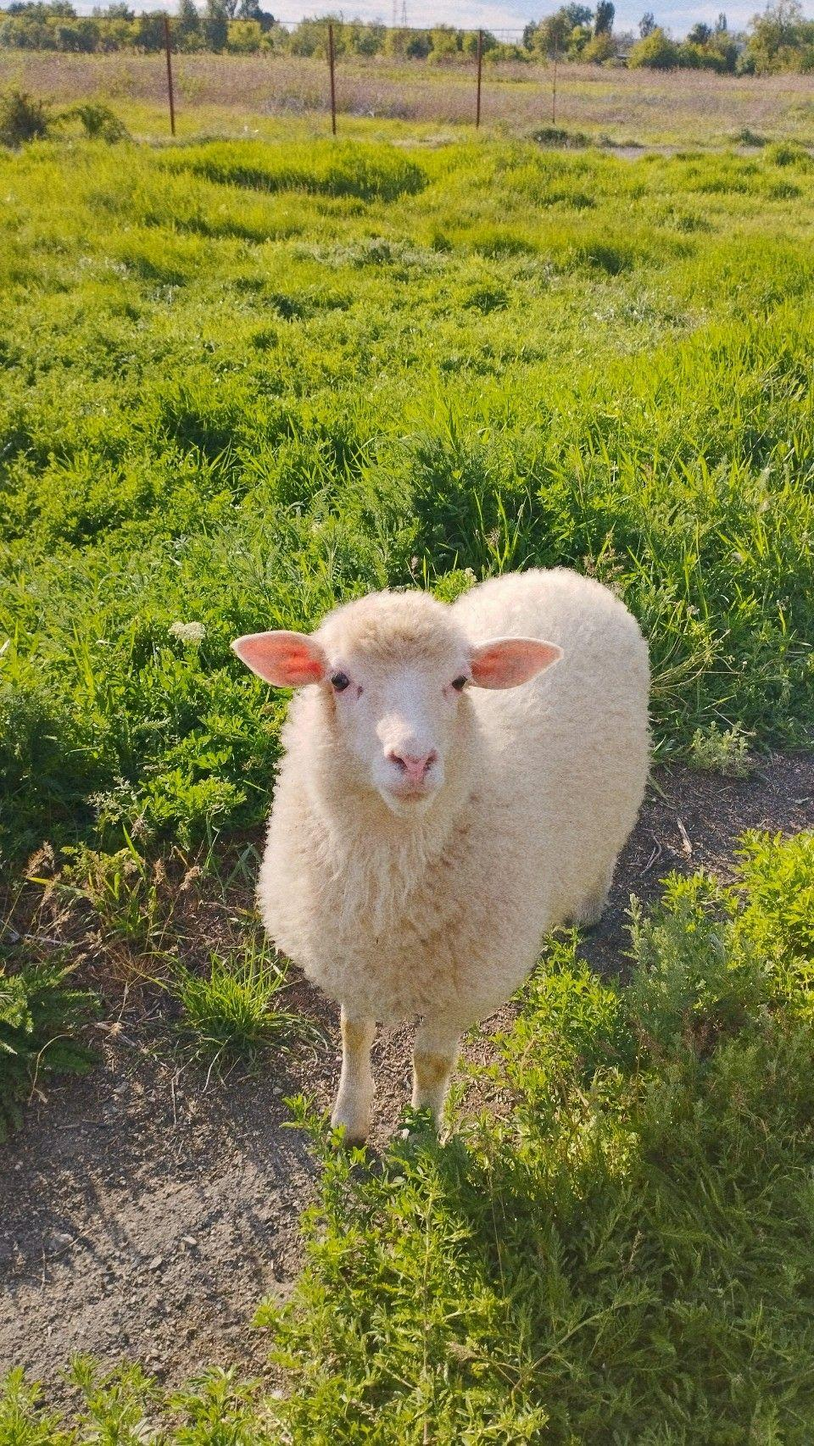sheep: (233, 570, 648, 1140)
